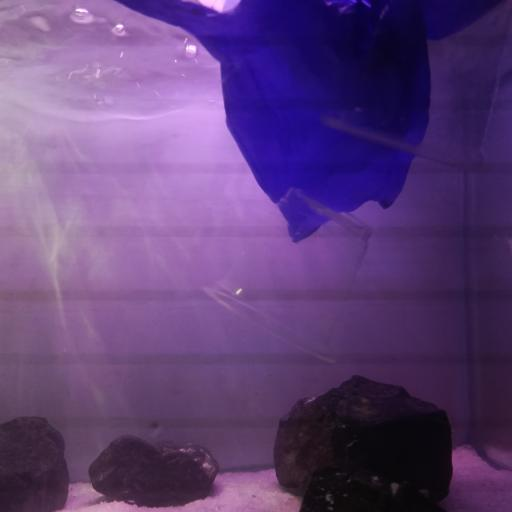glove: (113, 0, 491, 243)
plastic_cup: (318, 0, 510, 174), (200, 186, 374, 366)
